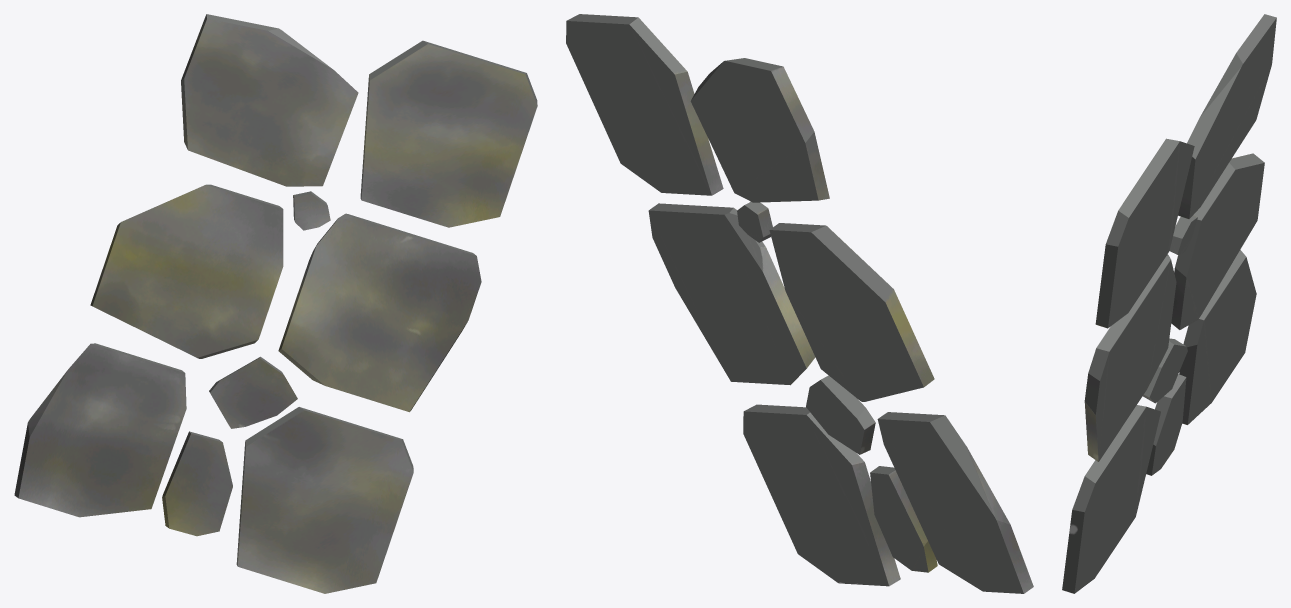
Rendered from way_path.glb.
3 views of the same model, side by side, from view 1: azimuth 30°, elevation 25°; view 2: azimuth 150°, elevation 25°; view 3: azimuth 270°, elevation 25° (orthographic). The views are drawn at different scales.
Parts seen in each view (by area): view 1: node_id4; view 2: node_id4; view 3: node_id4.
Part boxes in pixels (left/top/right/bottom): node_id4: left=14, top=14, right=537, bottom=593; node_id4: left=566, top=14, right=1033, bottom=593; node_id4: left=1062, top=14, right=1276, bottom=593.
Bounding box in the file's own units: 0.339 × 0.363 × 0.129.
1 material, 1 textured.
